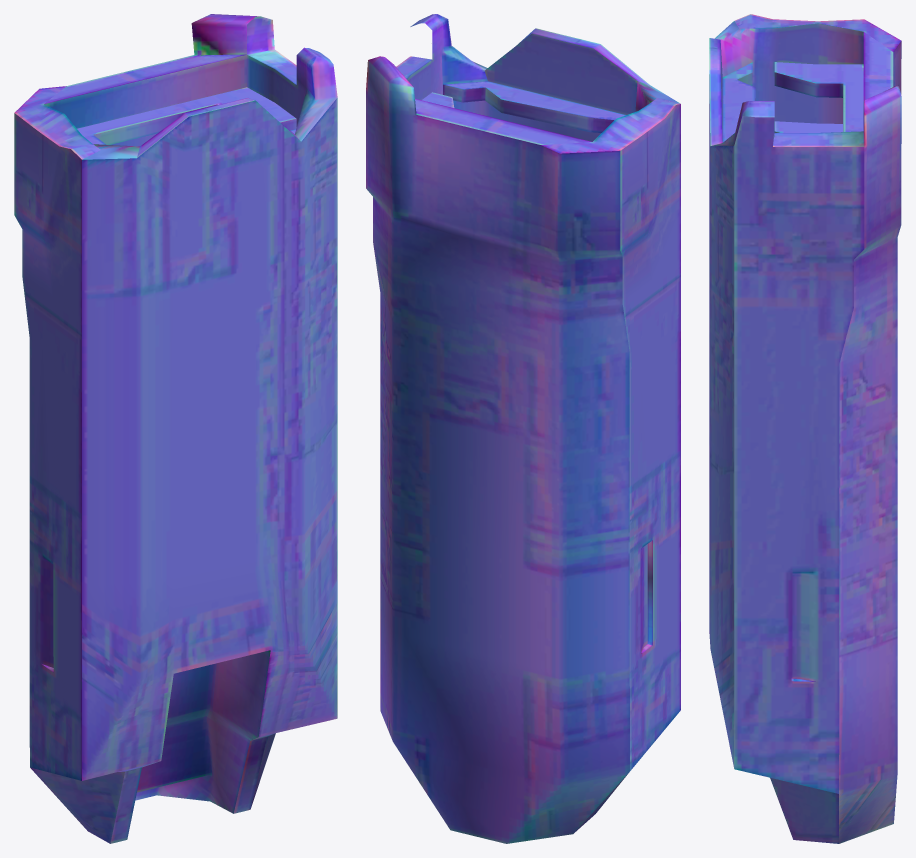
File: debris_01_01.glb
3 views of the same model, side by side, from view 1: azimuth 30°, elevation 25°; view 2: azimuth 150°, elevation 25°; view 3: azimuth 270°, elevation 25° (orthographic). The views are drawn at different scales.
Parts seen in each view (by area): view 1: debris_01_01; view 2: debris_01_01; view 3: debris_01_01.
Part boxes in pixels (x1,y1,x2,y2): debris_01_01: [14, 14, 337, 843]; debris_01_01: [366, 14, 680, 843]; debris_01_01: [709, 14, 901, 843].
Bounding box in the file's own units: 1.07 × 2.97 × 0.6769.
Materials: 1 (1 with a texture image).
